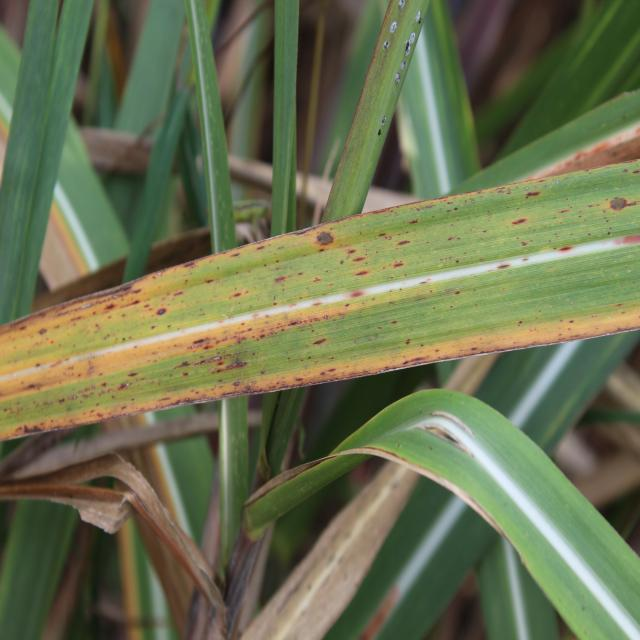Sugarcane: (0, 157, 640, 451), (243, 389, 640, 640)
